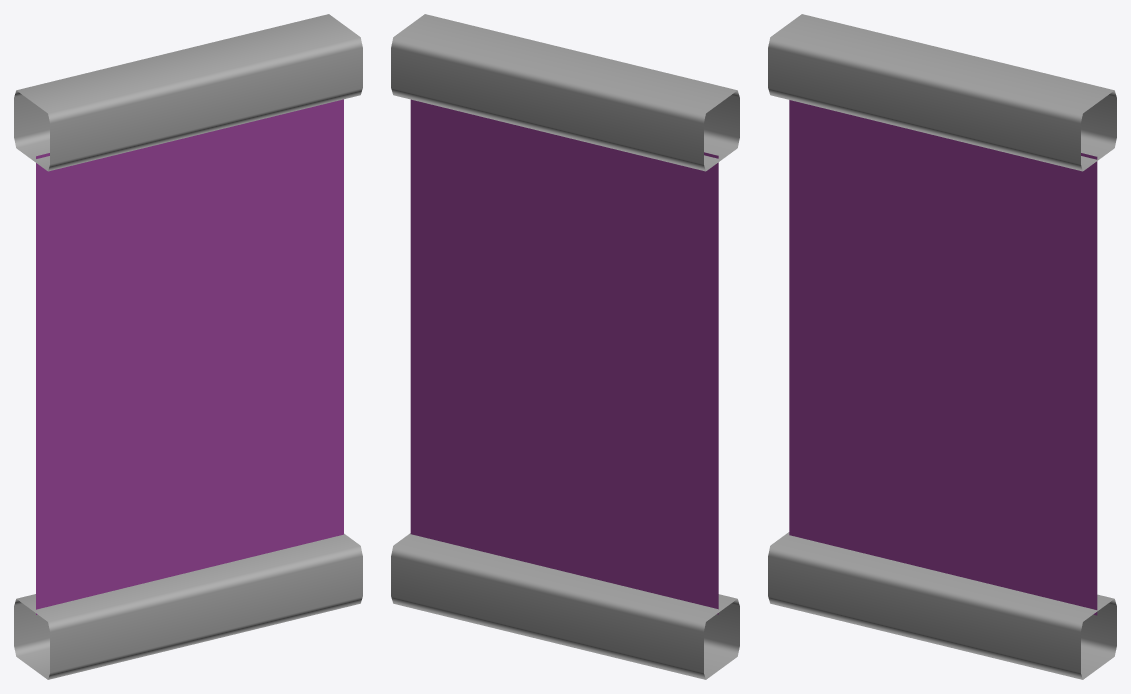
The model's file is SM_HQglassPanel.fbx.
The picture shows the model from 3 angles, left to right: view 1: azimuth 30°, elevation 25°; view 2: azimuth 150°, elevation 25°; view 3: azimuth 330°, elevation 25°; orthographic projection.
Parts seen in each view (by area): view 1: sm_glassPanel; view 2: sm_glassPanel; view 3: sm_glassPanel.
Part boxes in pixels (x1,y1,x2,y2): sm_glassPanel: (14,14,362,679); sm_glassPanel: (391,14,739,679); sm_glassPanel: (768,14,1116,679).
Bounding box in the file's own units: 508 × 878 × 101.
